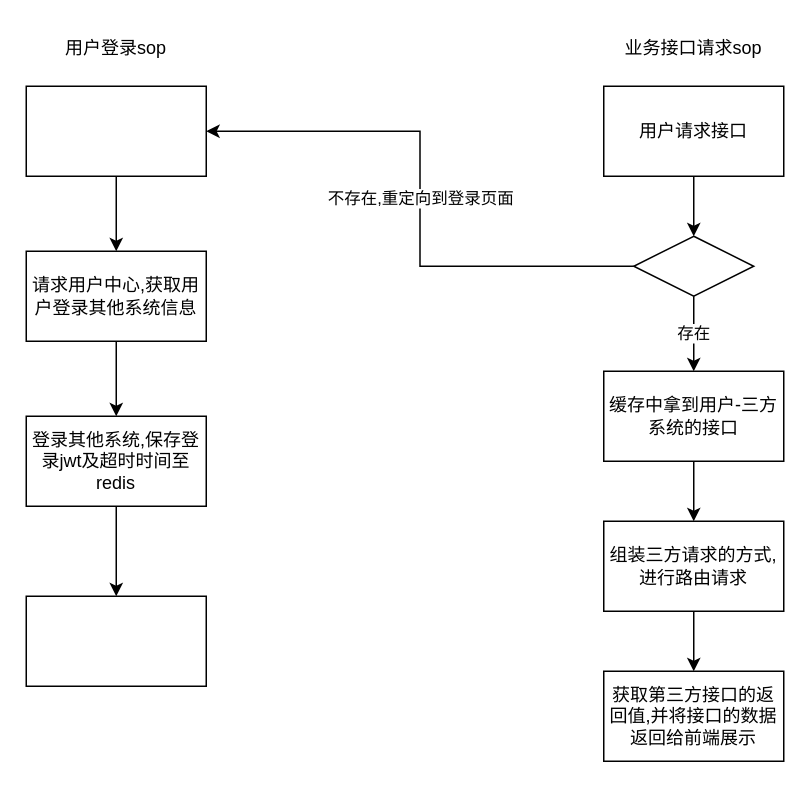
Image size: 810x788. Some labels were removed from this diagram. The centre of each missing label's shape, as x and y in pixels:
"token校验是否存在" goes at (693,265).
"新增延时任务,定时刷新登录状态信息" goes at (115,640).
"用户前端登录" goes at (115,130).
